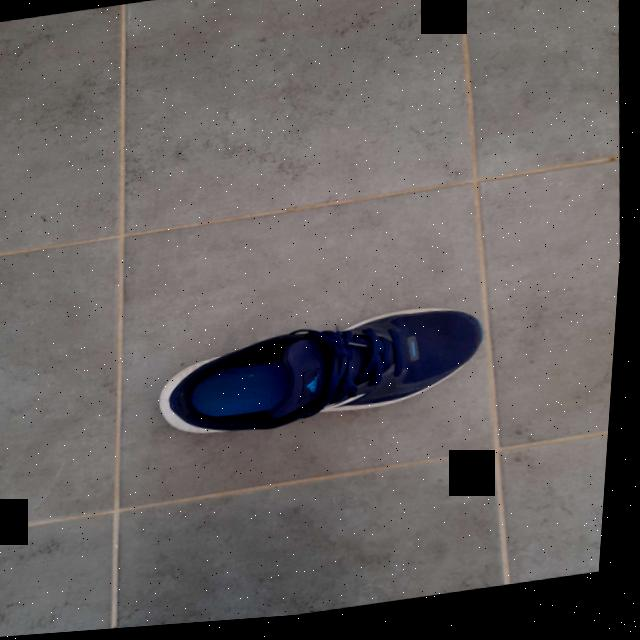shoes: (158, 305, 494, 448)
